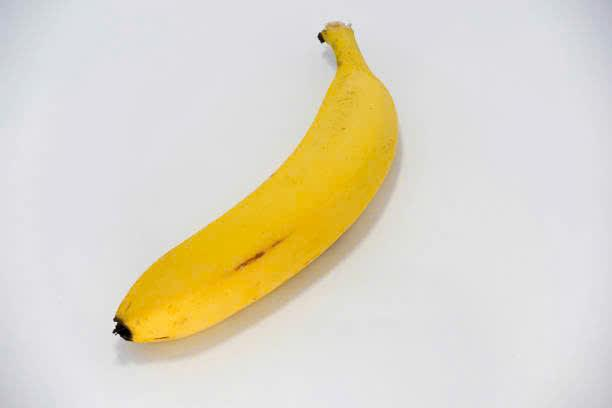banana: (102, 13, 406, 357)
